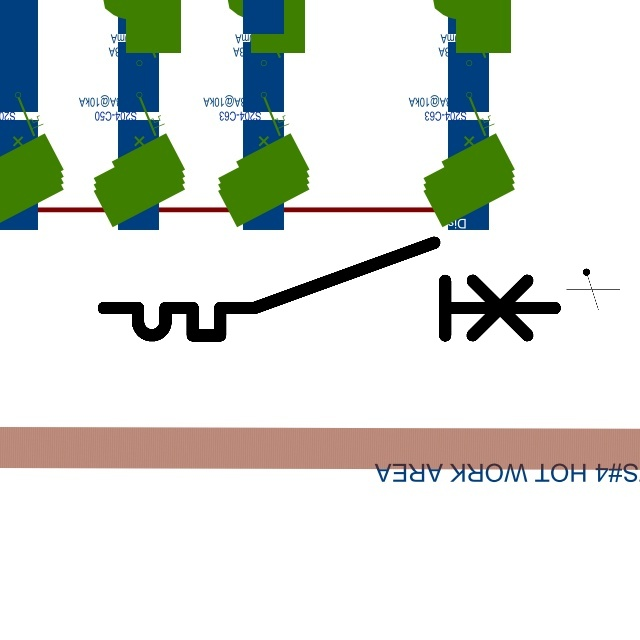interruptor_termomagnetico: (92, 231, 566, 347)
